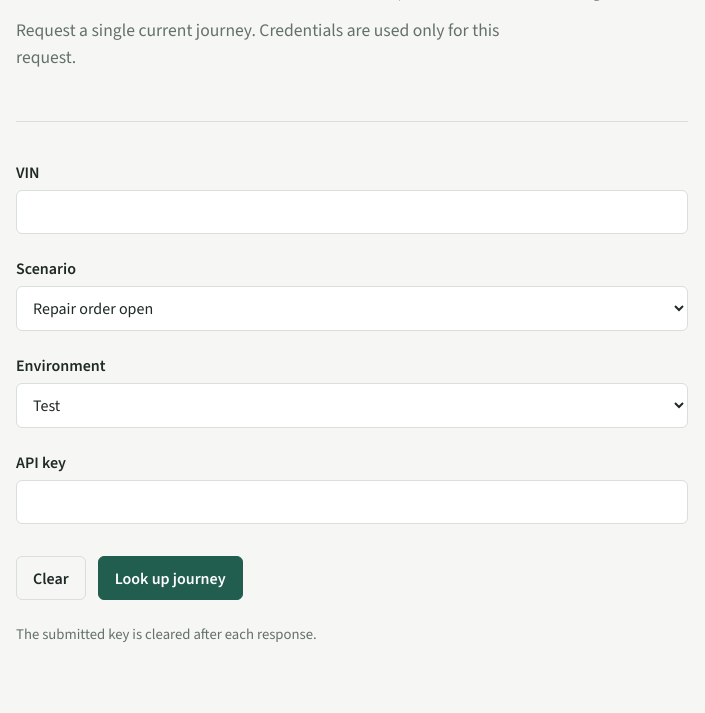
Test: LookupView › shows field feedback and avoids a request for invalid submission
(page scrolled)
Click the button "Look up journey": (170, 578) top-left (98, 556), bottom-right (243, 600)
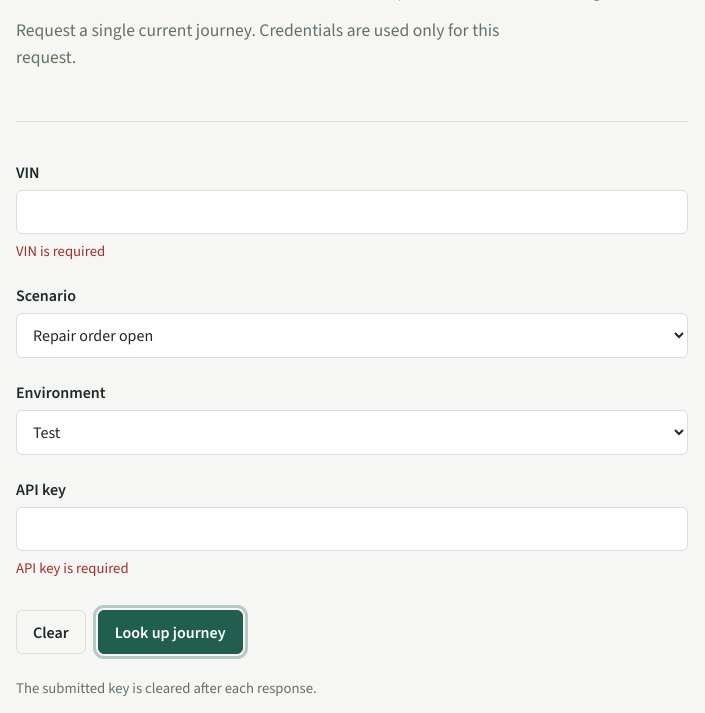
Expected: the text "VIN is required" is shown, top-left (16, 241), bottom-right (105, 261)
Expected: the text "API key is required" is shown, top-left (16, 558), bottom-right (129, 578)
